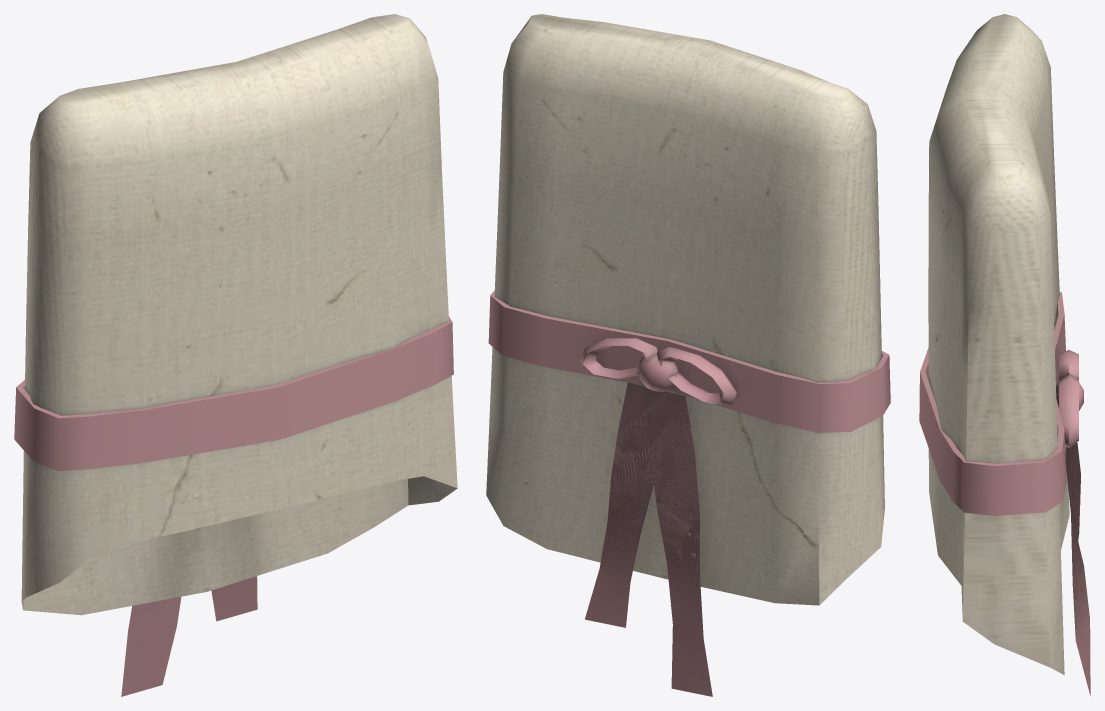
The model's file is chair_slipcover.glb.
3 views of the same model, side by side, from view 1: azimuth 30°, elevation 25°; view 2: azimuth 150°, elevation 25°; view 3: azimuth 270°, elevation 25° (orthographic). The views are drawn at different scales.
Parts seen in each view (by area): view 1: chair_slipcover; view 2: chair_slipcover; view 3: chair_slipcover.
Part boxes in pixels (x1,y1,x2,y2): chair_slipcover: (14, 14, 457, 696); chair_slipcover: (486, 14, 890, 696); chair_slipcover: (919, 14, 1090, 696).
Bounding box in the file's own units: 0.498 × 0.75 × 0.1888.
Materials: 1 (1 with a texture image).
